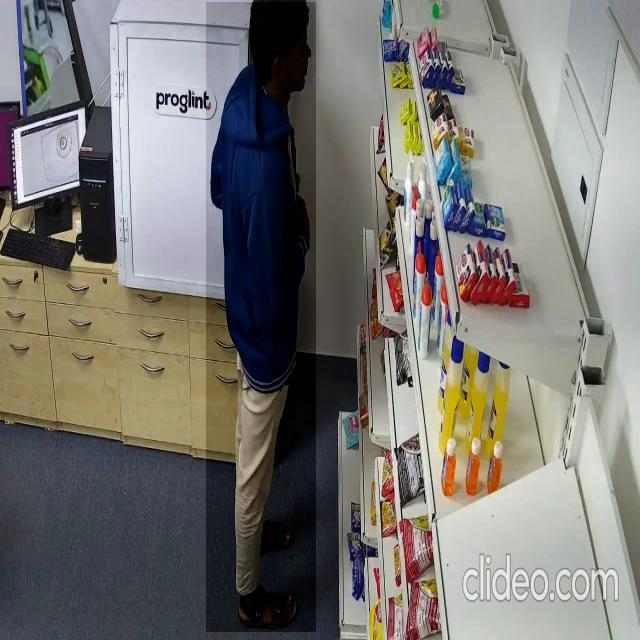Shoplifting: (206, 2, 316, 632)
